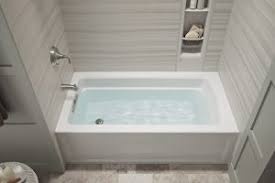bathub: (58, 65, 246, 165)
